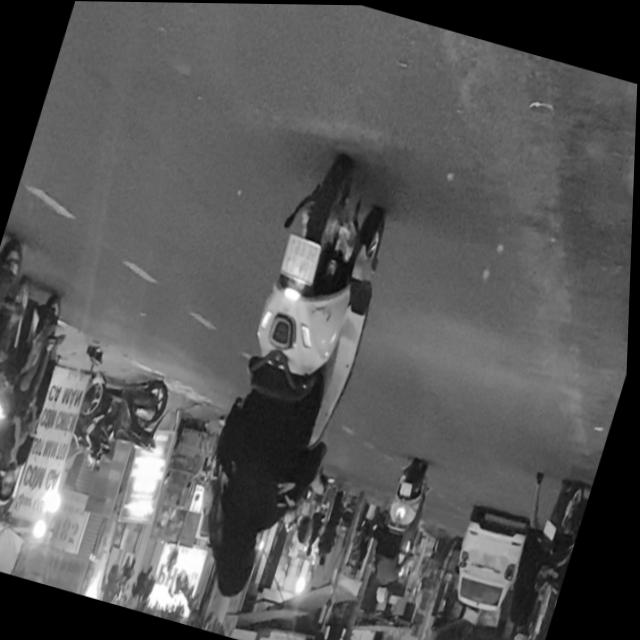helmet: (0, 468, 22, 509), (0, 463, 7, 504)
licenseplate: (170, 138, 420, 626), (0, 277, 79, 514), (0, 218, 52, 530)
motorcyclist: (200, 499, 273, 605)
nohelmet: (277, 233, 325, 286)
